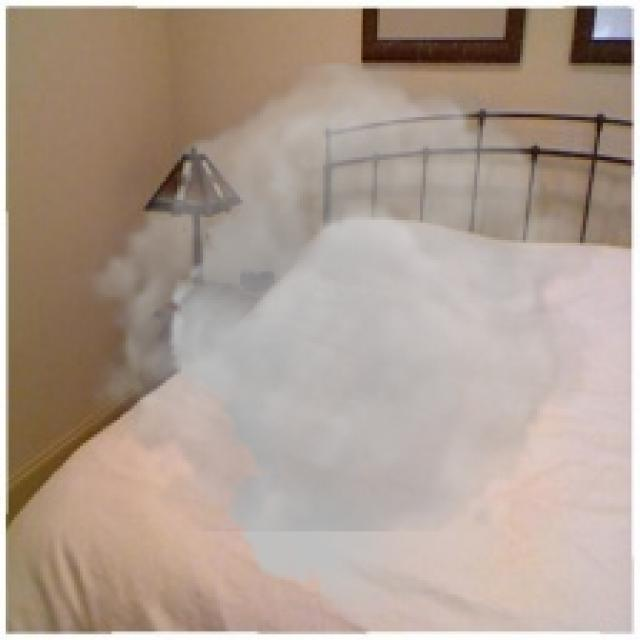Smoke: (71, 63, 603, 626)
